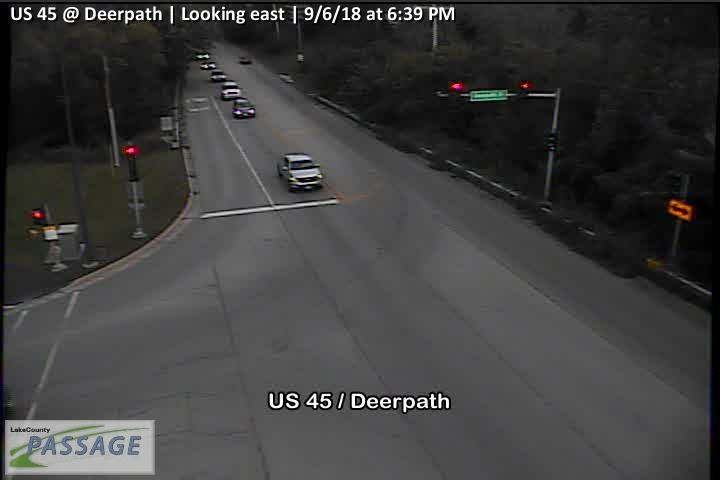SUV: (276, 153, 326, 193), (231, 98, 257, 119), (220, 82, 242, 99), (237, 54, 253, 65), (194, 50, 211, 60)
Sedan: (209, 71, 227, 81), (200, 60, 217, 70)
